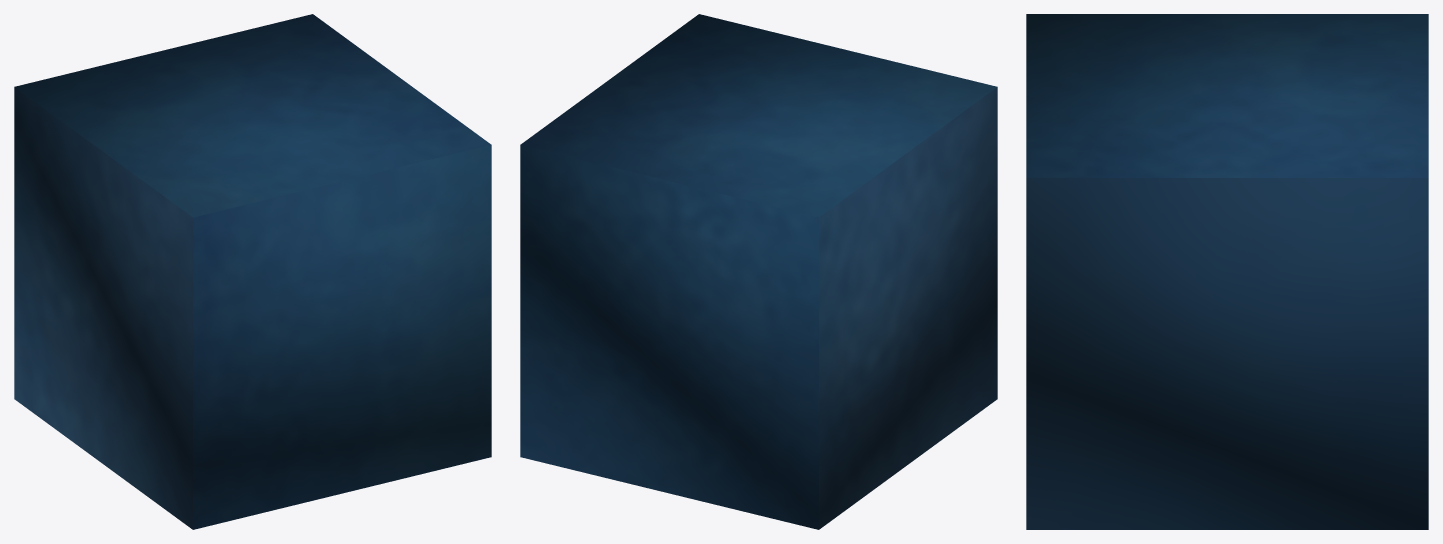
Rendered from pvp_ zhuankuai_05.FBX.
The picture shows the model from 3 angles, left to right: view 1: azimuth 30°, elevation 25°; view 2: azimuth 150°, elevation 25°; view 3: azimuth 270°, elevation 25°; orthographic projection. The views are drawn at different scales.
Parts seen in each view (by area): view 1: pvp_ zhuankuai_05; view 2: pvp_ zhuankuai_05; view 3: pvp_ zhuankuai_05.
Boxes of the visible parts, bbox=[...] form: pvp_ zhuankuai_05: bbox=[14, 14, 491, 529]; pvp_ zhuankuai_05: bbox=[520, 14, 997, 529]; pvp_ zhuankuai_05: bbox=[1026, 14, 1428, 529].
Bounding box in the file's own units: 0.6301 × 0.6301 × 0.6532.
